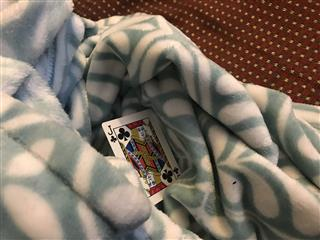JackOfClubs: (100, 108, 181, 204)
